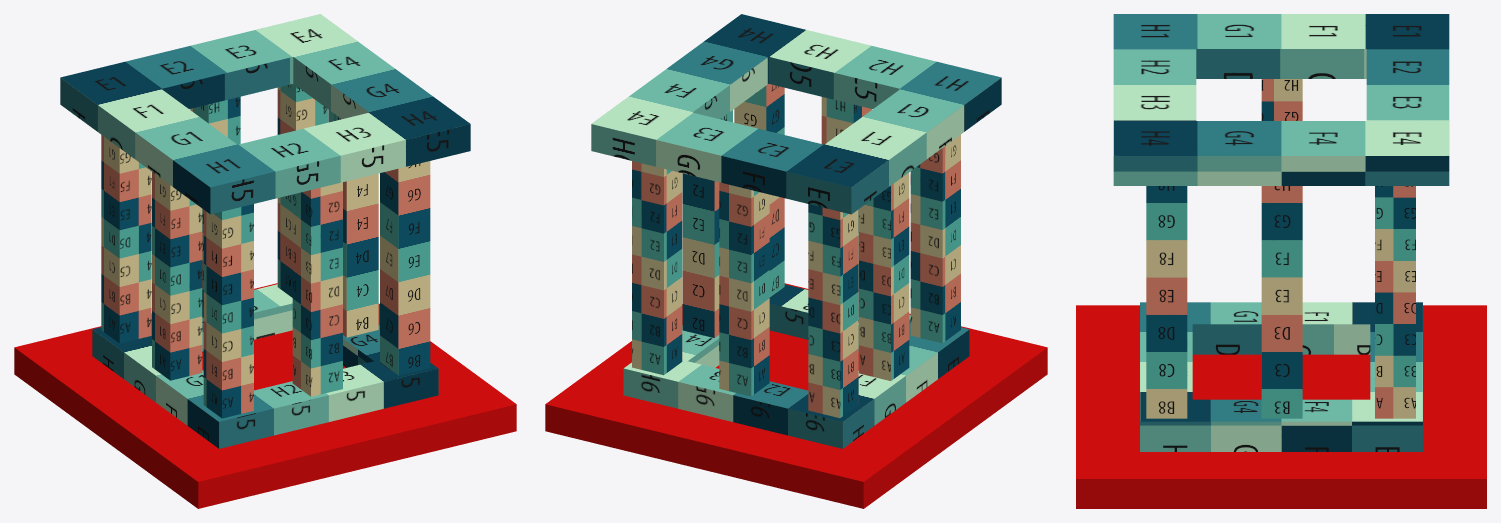
The model's file is sceneHierTest.glb.
3 views of the same model, side by side, from view 1: azimuth 30°, elevation 25°; view 2: azimuth 150°, elevation 25°; view 3: azimuth 270°, elevation 25° (orthographic). The views are drawn at different scales.
Parts seen in each view (by area): view 1: top, floor, edgebase, pillar.003, pillar.002, pillar.007, pillar.001, pillar.005, pillar.004, pillar, pillar.006; view 2: top, floor, edgebase, pillar.001, pillar.006, pillar, pillar.005, pillar.003, pillar.004, pillar.002, pillar.007; view 3: top, floor, edgebase, pillar.002, pillar.004, pillar, pillar.005.
Part boxes in pixels (left/top/right/bottom): top: left=60, top=14, right=470, bottom=214; floor: left=14, top=283, right=516, bottom=508; edgebase: left=92, top=284, right=438, bottom=448; pillar.003: left=203, top=204, right=253, bottom=418; pillar.002: left=380, top=161, right=430, bottom=375; pillar.007: left=292, top=182, right=342, bottom=396; pillar.001: left=101, top=135, right=151, bottom=343; pillar.005: left=152, top=172, right=202, bottom=380; pillar.004: left=328, top=109, right=378, bottom=337; pillar: left=277, top=84, right=327, bottom=297; pillar.006: left=190, top=96, right=240, bottom=317; top: left=591, top=14, right=1001, bottom=214; floor: left=545, top=283, right=1047, bottom=508; edgebase: left=623, top=284, right=969, bottom=448; pillar.001: left=808, top=204, right=858, bottom=418; pillar.006: left=719, top=182, right=769, bottom=396; pillar: left=632, top=161, right=682, bottom=375; pillar.005: left=859, top=172, right=909, bottom=380; pillar.003: left=910, top=134, right=960, bottom=343; pillar.004: left=682, top=110, right=732, bottom=337; pillar.002: left=734, top=84, right=784, bottom=297; pillar.007: left=821, top=97, right=871, bottom=317; top: left=1113, top=14, right=1449, bottom=185; floor: left=1076, top=305, right=1486, bottom=508; edgebase: left=1140, top=302, right=1422, bottom=451; pillar.002: left=1146, top=186, right=1187, bottom=418; pillar.004: left=1261, top=186, right=1302, bottom=418; pillar: left=1375, top=186, right=1415, bottom=418; pillar.005: left=1261, top=79, right=1302, bottom=120.
Size of what is drawn, in the model's own units: 3.98 by 3.61 by 3.98.
Materials: 3 (2 with a texture image).
